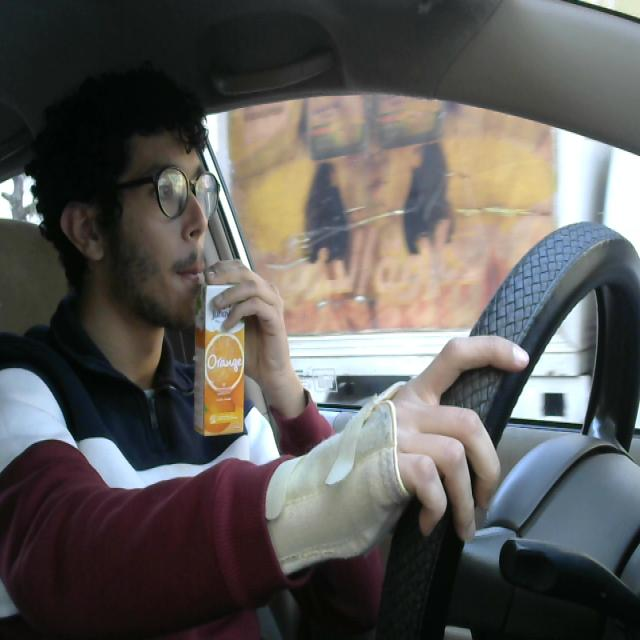drinking: (182, 267, 248, 436)
